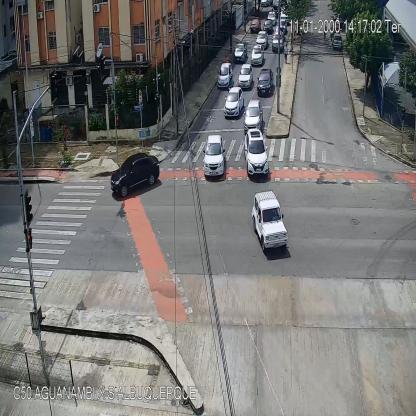car: (251, 190, 289, 255), (110, 154, 160, 196), (244, 128, 269, 178), (204, 134, 224, 186), (224, 86, 243, 117), (245, 100, 263, 130), (239, 64, 252, 92), (258, 71, 274, 93), (218, 62, 232, 87), (250, 44, 264, 66), (272, 32, 284, 52), (234, 44, 247, 62), (256, 31, 268, 48), (262, 19, 272, 34), (332, 35, 342, 49), (251, 18, 259, 32), (268, 11, 275, 23)
motorbike: (223, 54, 228, 63)
person: (62, 125, 67, 150), (284, 44, 289, 64)
